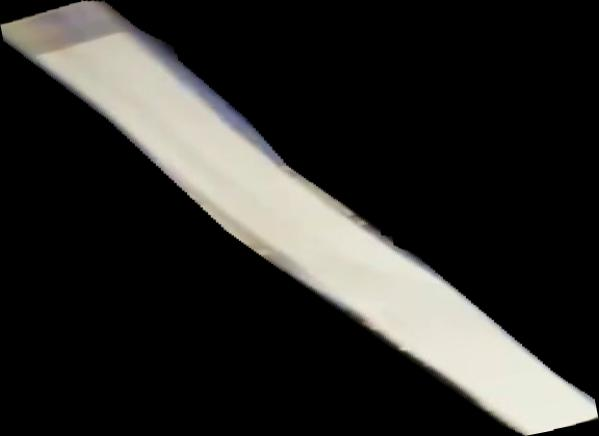backward: (1, 1, 599, 436)
